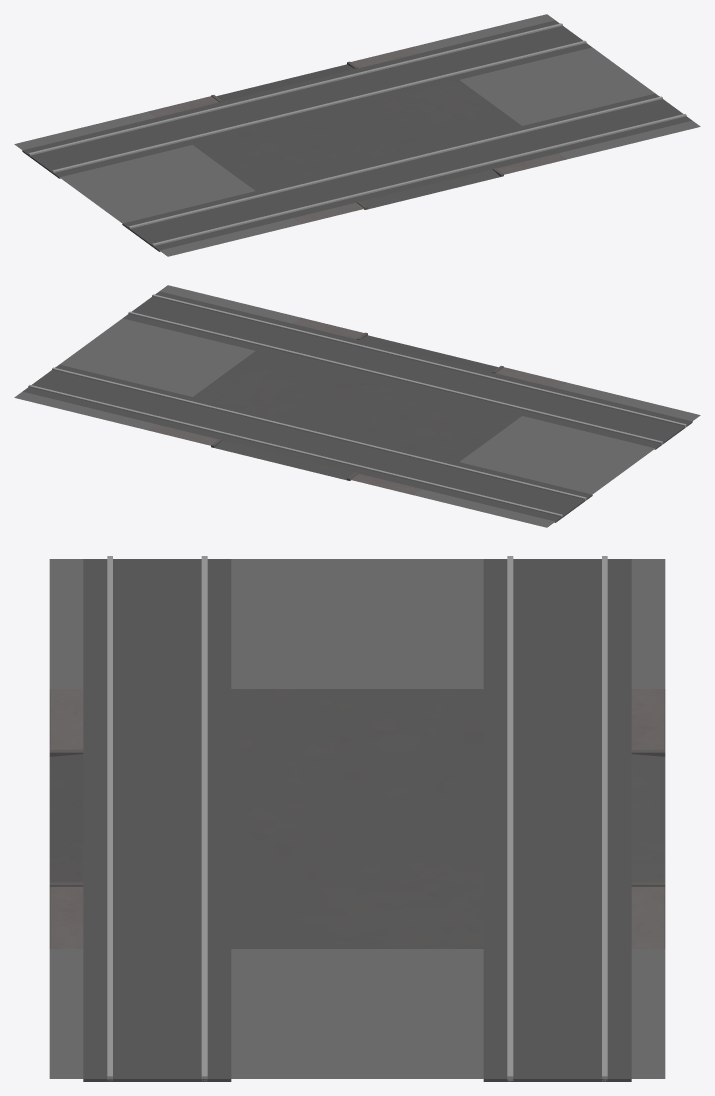
File: SM_Floor_Road_13.fbx
The picture shows the model from 3 angles, top to bottom: view 1: azimuth 30°, elevation 25°; view 2: azimuth 150°, elevation 25°; view 3: azimuth 270°, elevation 25°; orthographic projection. The views are drawn at different scales.
Visible parts, largest first — view 1: SM_Floor_Road_13; view 2: SM_Floor_Road_13; view 3: SM_Floor_Road_13.
Boxes of the visible parts, <box> form: SM_Floor_Road_13: <box>14,14,700,256</box>; SM_Floor_Road_13: <box>14,285,700,527</box>; SM_Floor_Road_13: <box>49,556,665,1081</box>.
Size of the model in its own units: 20 by 0.1 by 10.
